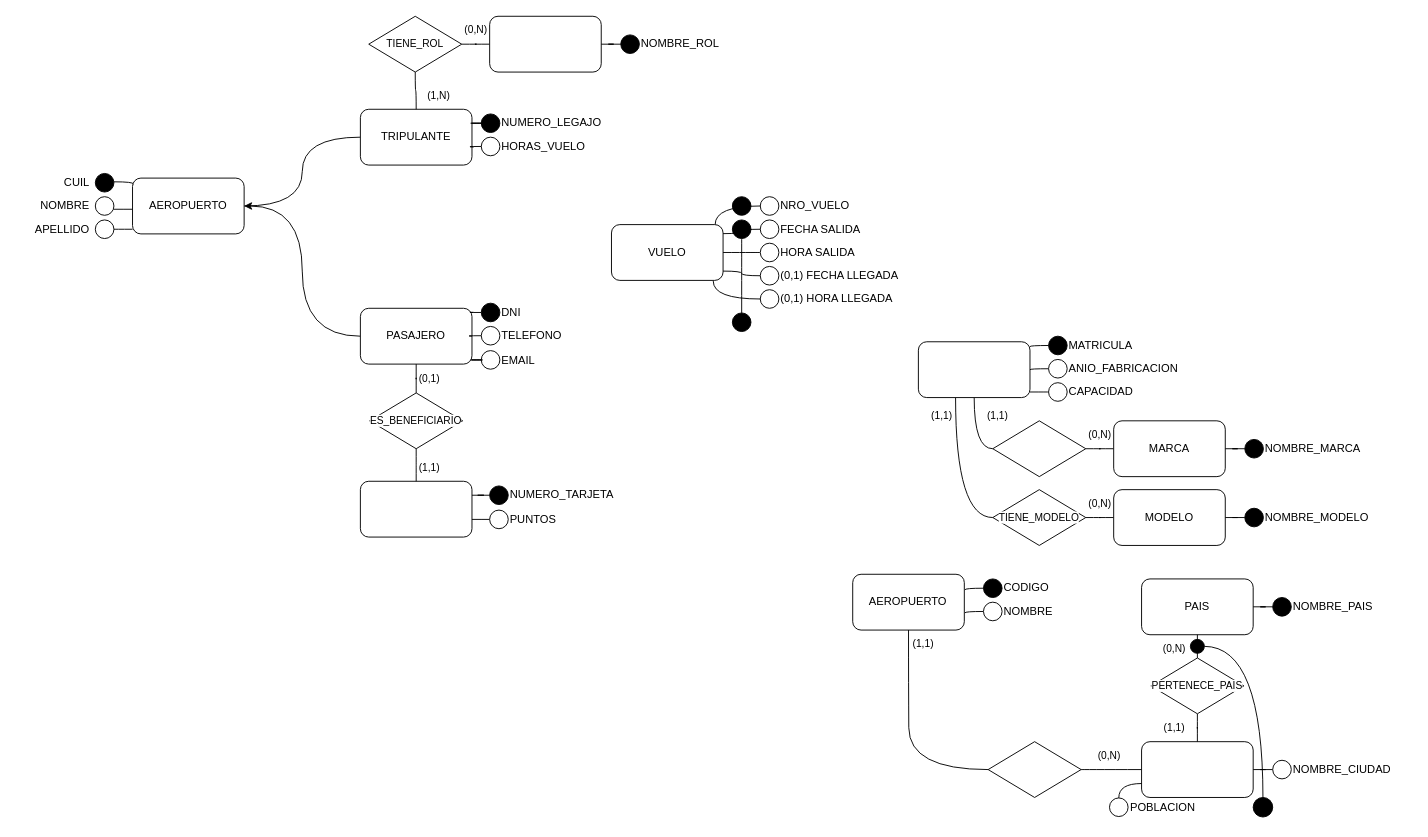
The diagram is 1428 pixels wide and 837 high, and some of its shapes have lost their labels. The box of each missing label's shape, as (x1, y1, x2, y2) in pixels:
AVION: (917, 341, 1030, 398)
CIUDAD: (1141, 741, 1253, 797)
ROL: (489, 15, 601, 72)
TARJETA_BENEFICIARIO: (359, 480, 472, 537)
TIENE_MARCA: (992, 420, 1086, 477)
UBICADO_EN: (987, 741, 1081, 797)
